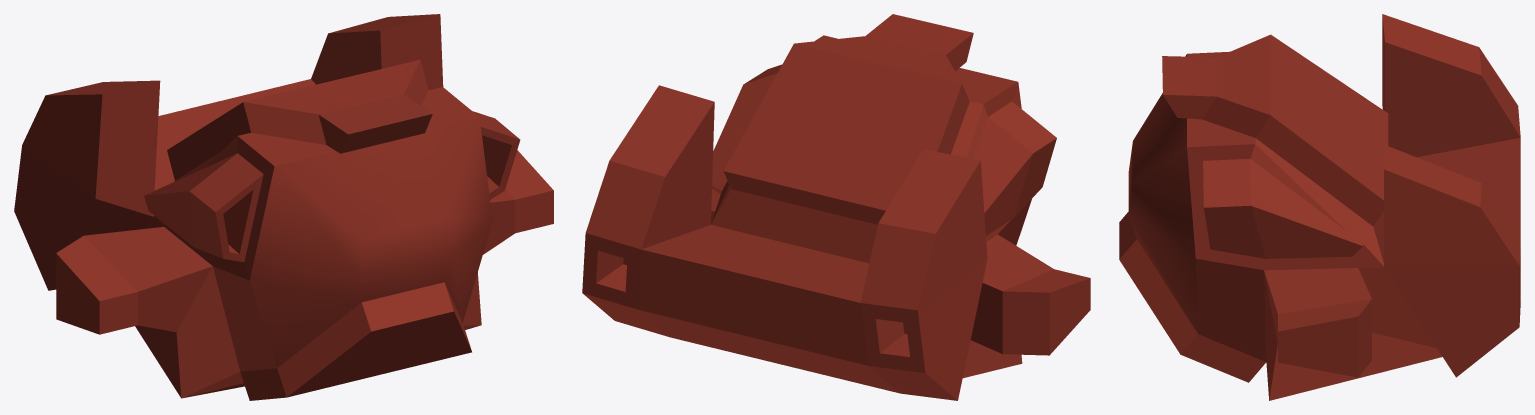
File: MechHead03.FBX
3 views of the same model, side by side, from view 1: azimuth 30°, elevation 25°; view 2: azimuth 150°, elevation 25°; view 3: azimuth 270°, elevation 25° (orthographic). The views are drawn at different scales.
Visible parts, largest first — view 1: MechHead03; view 2: MechHead03; view 3: MechHead03.
Boxes of the visible parts, box(x1,y1,x2,y2) form: MechHead03: box(14, 14, 553, 400); MechHead03: box(582, 14, 1090, 400); MechHead03: box(1119, 14, 1520, 400).
Bounding box in the file's own units: 340 × 282 × 214.
